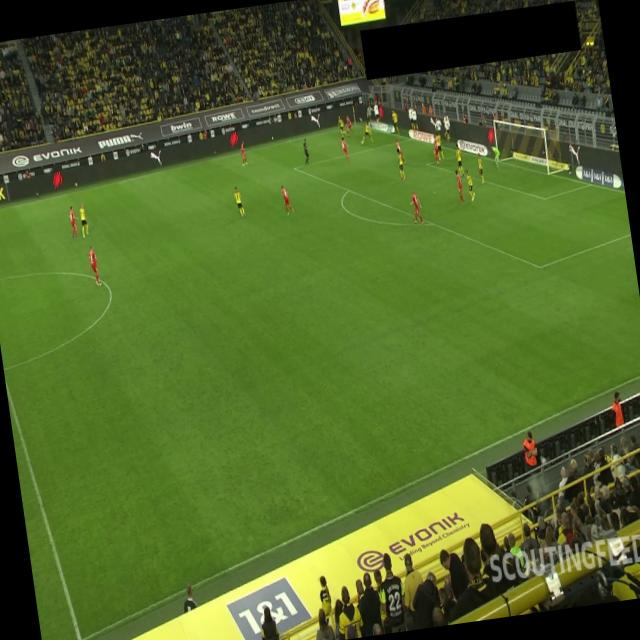ball: (361, 140, 365, 146)
goalkeeper: (490, 144, 503, 172)
player: (88, 244, 104, 287), (280, 184, 296, 216), (410, 190, 424, 226), (232, 184, 246, 218), (67, 204, 79, 240), (78, 202, 90, 238), (465, 168, 476, 202), (454, 168, 464, 204), (360, 120, 374, 144), (394, 138, 406, 166), (396, 147, 406, 180), (336, 114, 348, 140), (454, 146, 464, 177), (431, 134, 441, 164), (476, 154, 486, 184), (340, 136, 350, 163), (239, 140, 248, 166), (436, 132, 444, 161), (344, 115, 354, 136)
referee: (302, 138, 311, 165)
